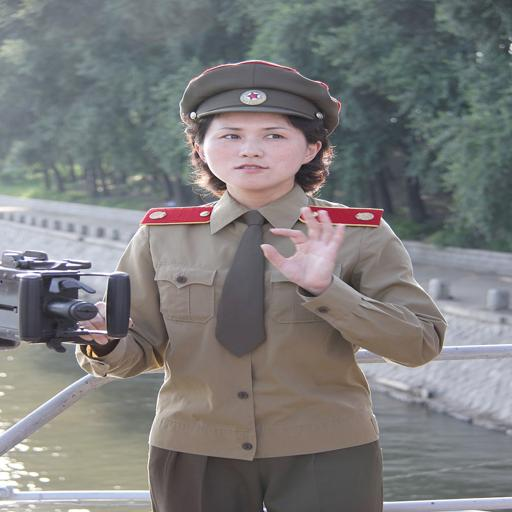north army: (100, 55, 448, 512)
